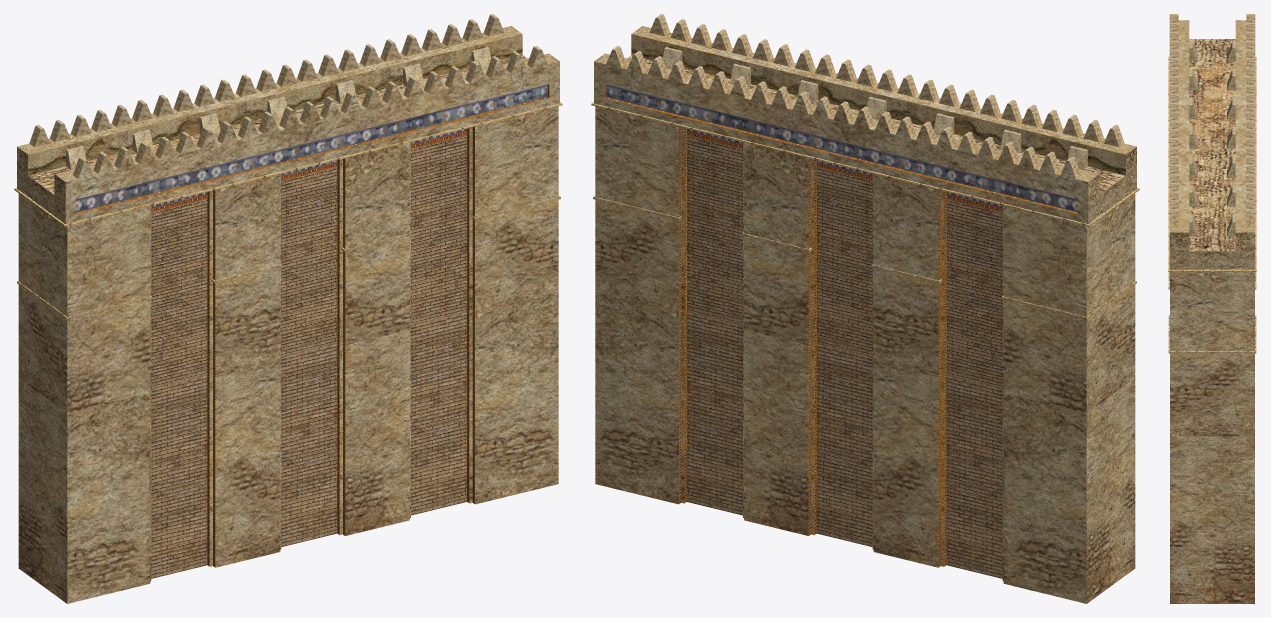
File: pers_wall_long.glb
The picture shows the model from 3 angles, left to right: view 1: azimuth 30°, elevation 25°; view 2: azimuth 150°, elevation 25°; view 3: azimuth 270°, elevation 25°; orthographic projection. The views are drawn at different scales.
Size of the model in its own units: 36.53 by 30.75 by 6.37.
1 material, 1 textured.
